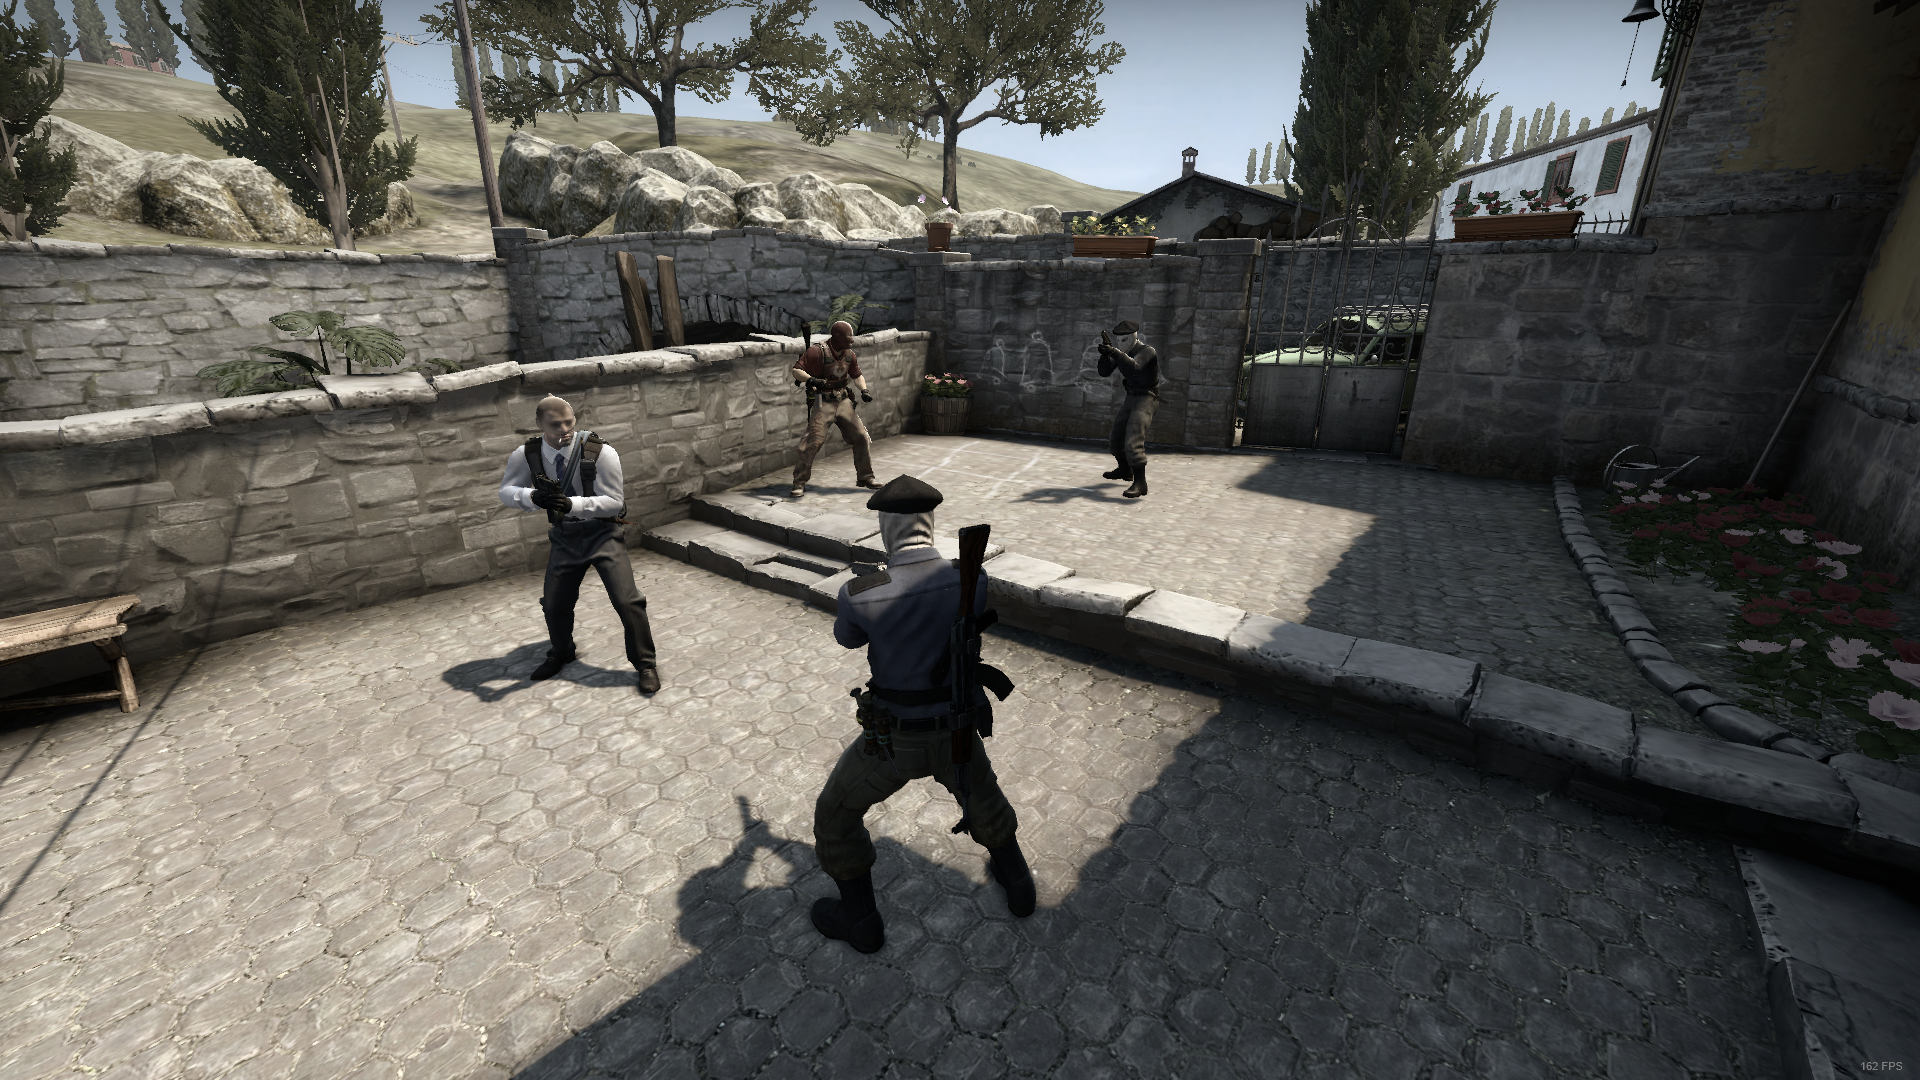t: (808, 472, 1044, 961), (1083, 314, 1164, 500)
